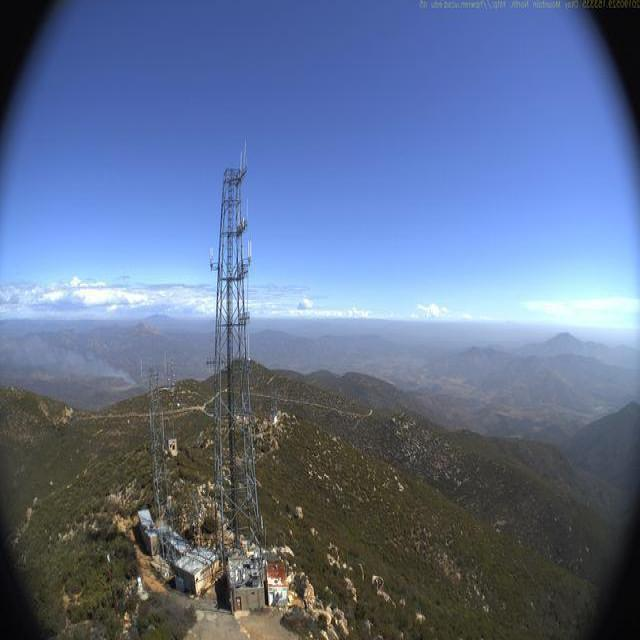smoke: (5, 335, 140, 388)
